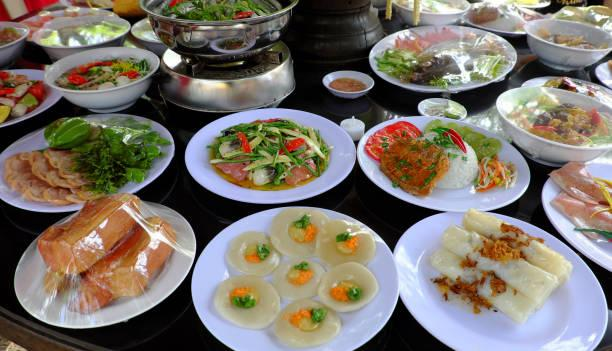Braised Crucian Carp: (191, 205, 396, 351), (391, 211, 606, 350), (11, 200, 192, 331), (142, 0, 305, 109), (0, 113, 175, 212), (354, 116, 527, 212), (186, 107, 351, 203), (369, 24, 515, 94), (496, 84, 610, 164), (43, 46, 159, 113)
